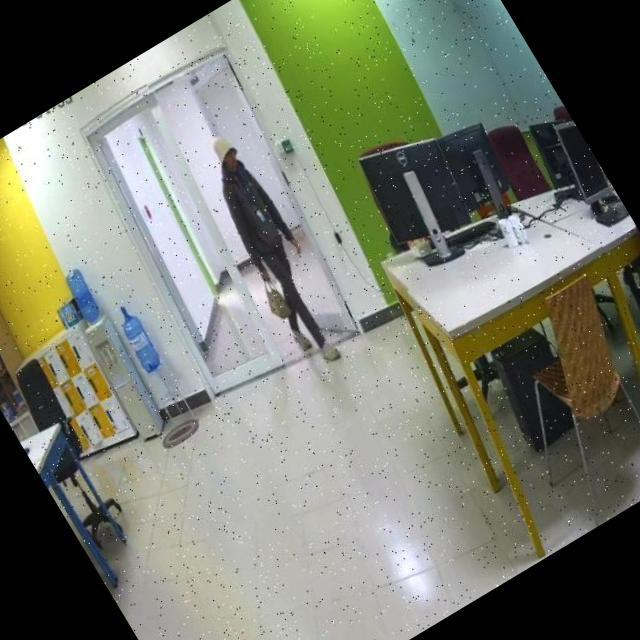person: (178, 128, 366, 378)
